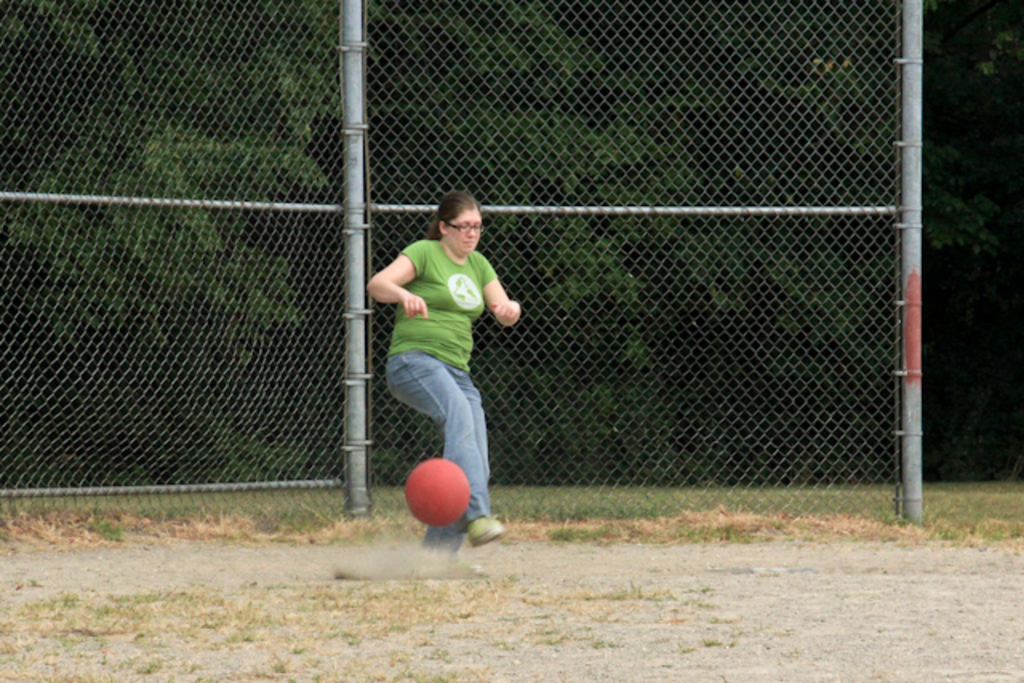Person: (365, 191, 521, 559)
